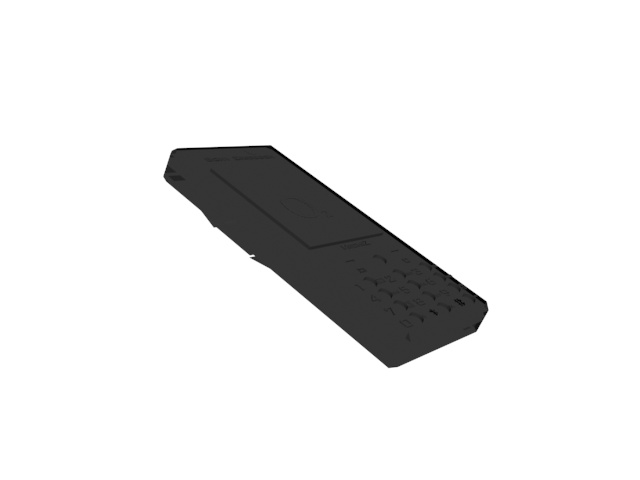mobile_phone: (161, 145, 496, 374)
